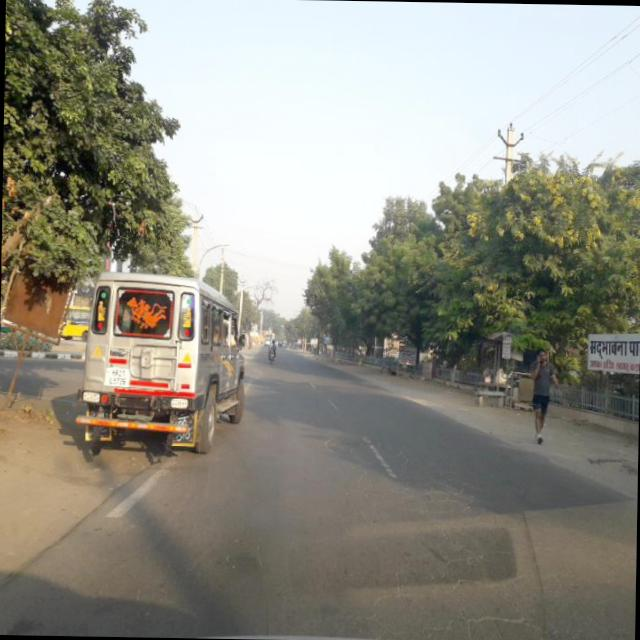crack: (402, 468, 526, 637)
